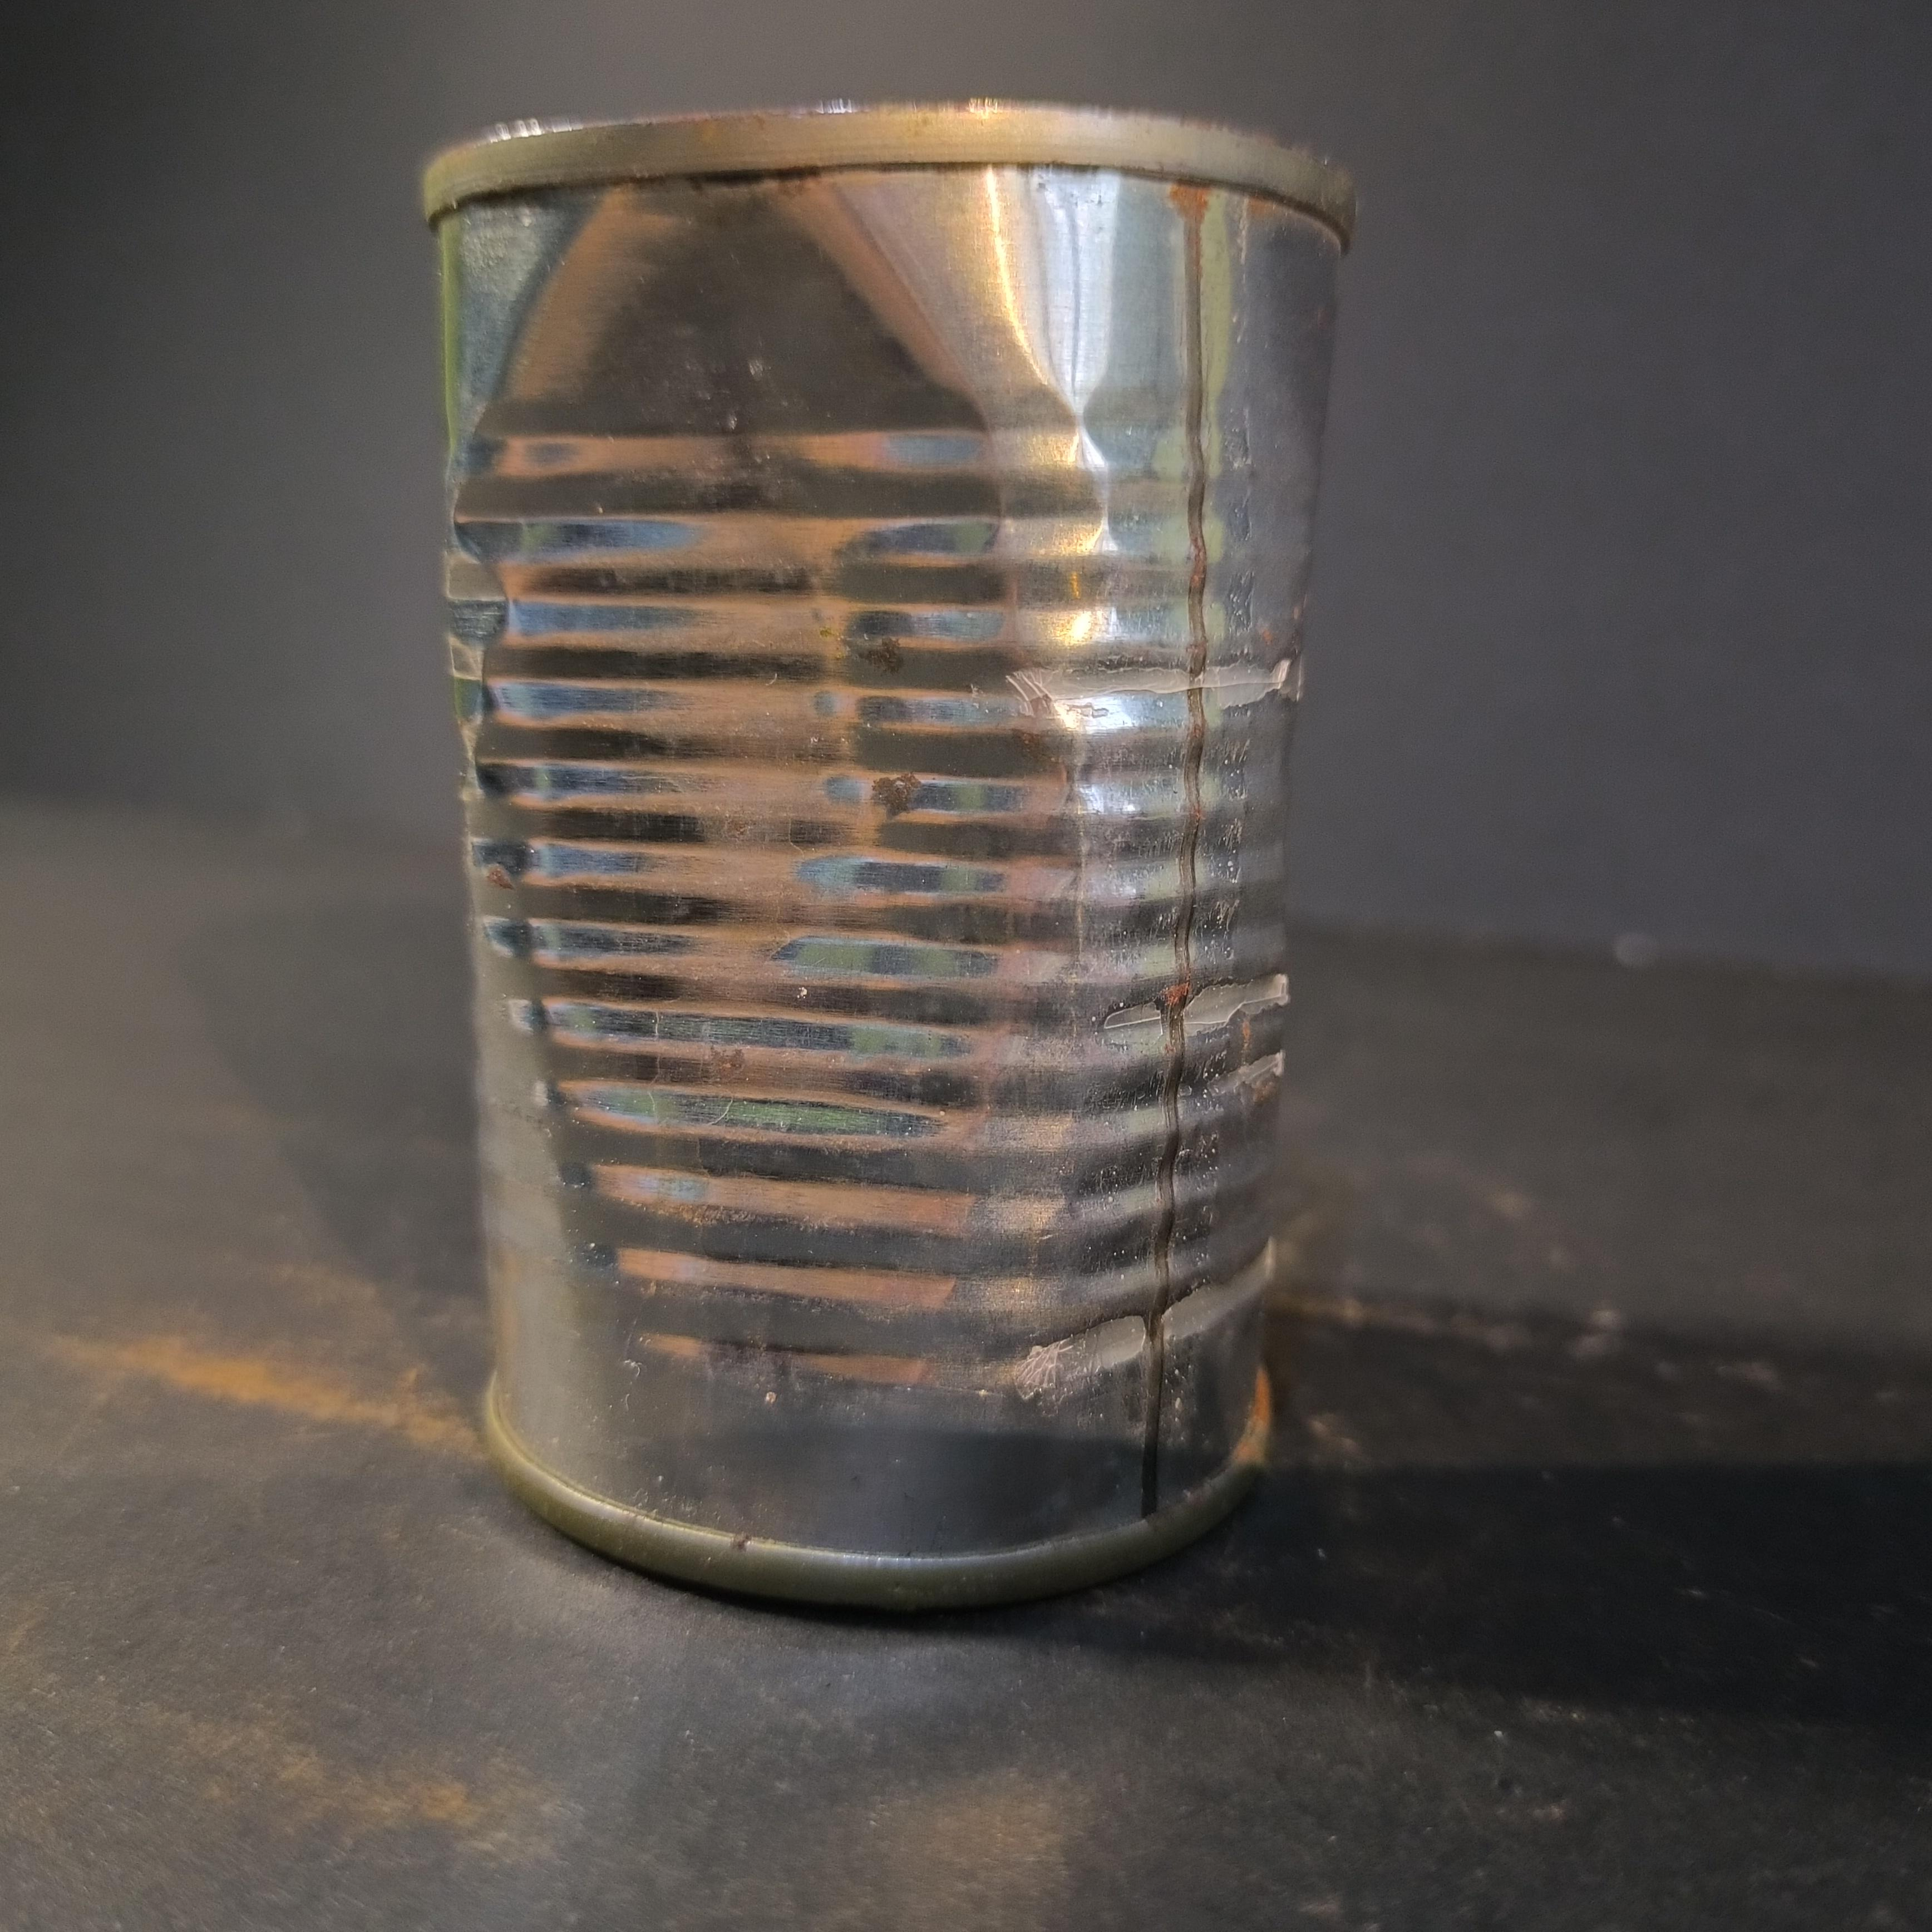Minor Defect: (421, 100, 1356, 1611)
